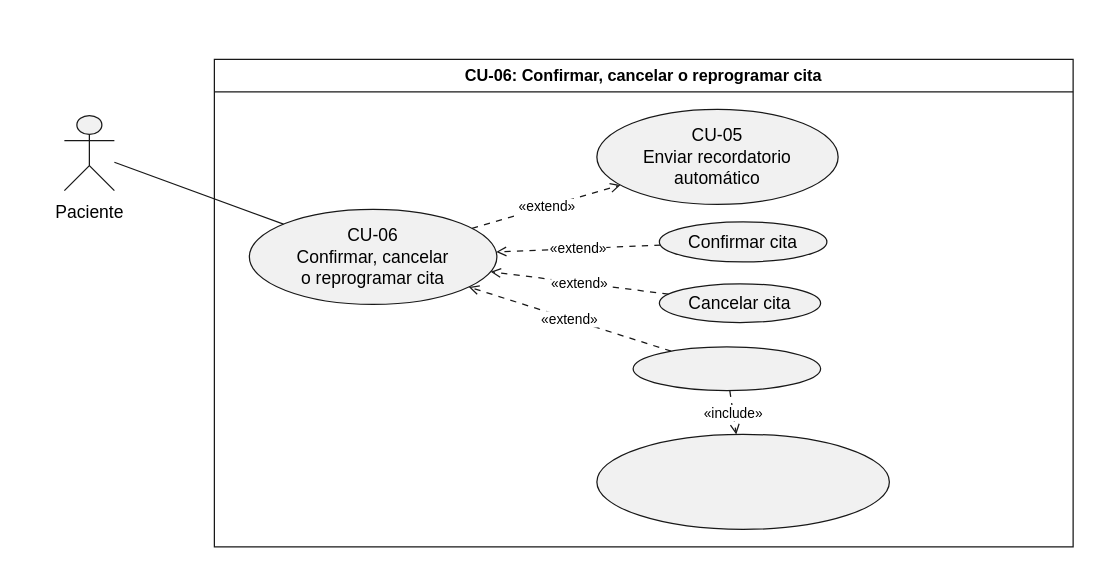
Image size: 1095x569. Some labels were removed from this diagram. Here are the shapes that lost their labels. From the top down, the box of each, then its label:
(632, 346, 821, 391): Reprogramar cita
(596, 433, 889, 529): CU-01 Consultar disponibilidad de horarios
